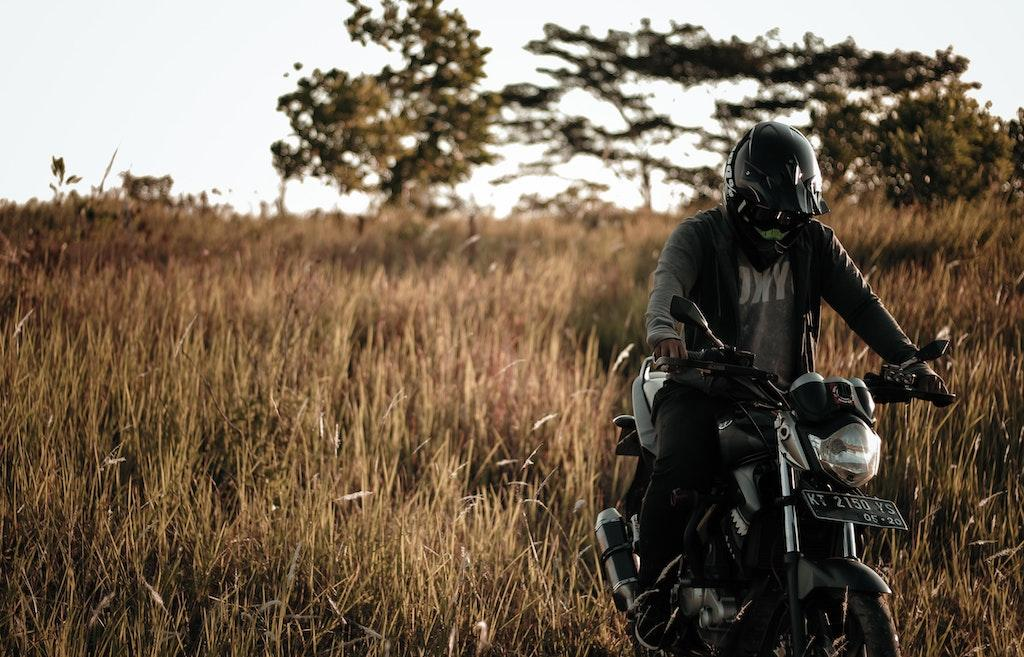helmet: (722, 120, 832, 275)
